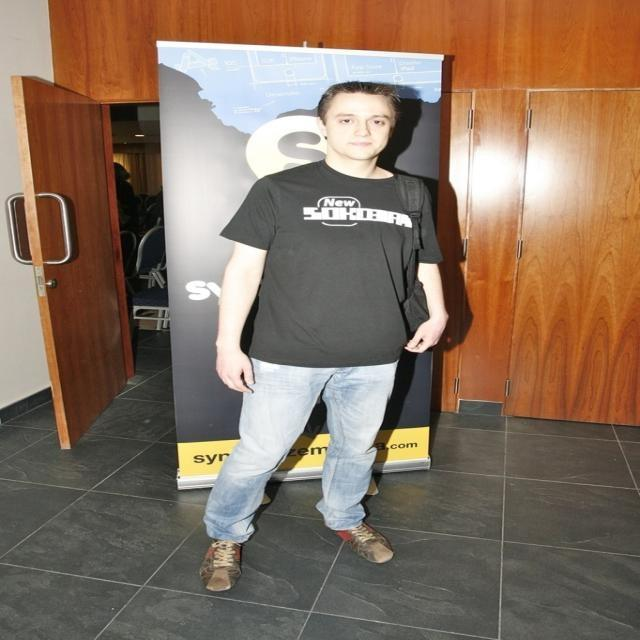door: (4, 73, 173, 450)
